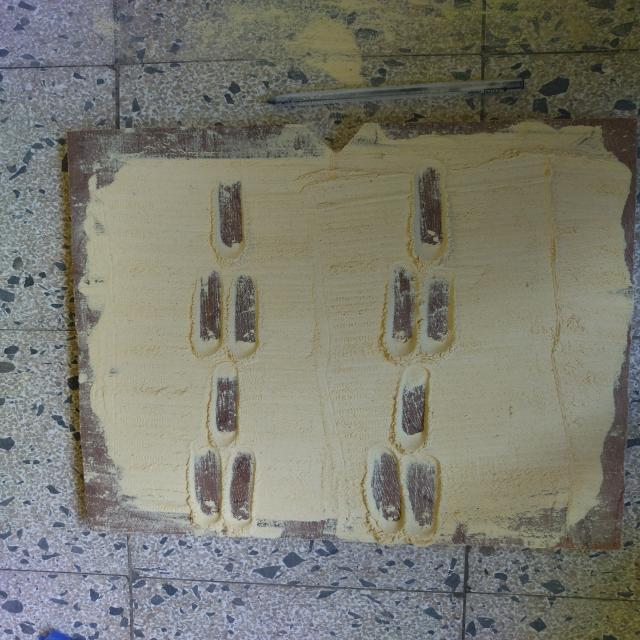double: (358, 442, 450, 548), (376, 265, 464, 364), (186, 264, 270, 362), (182, 441, 264, 538)
single: (402, 156, 456, 270), (386, 360, 438, 456), (200, 355, 247, 451), (206, 170, 252, 266)
